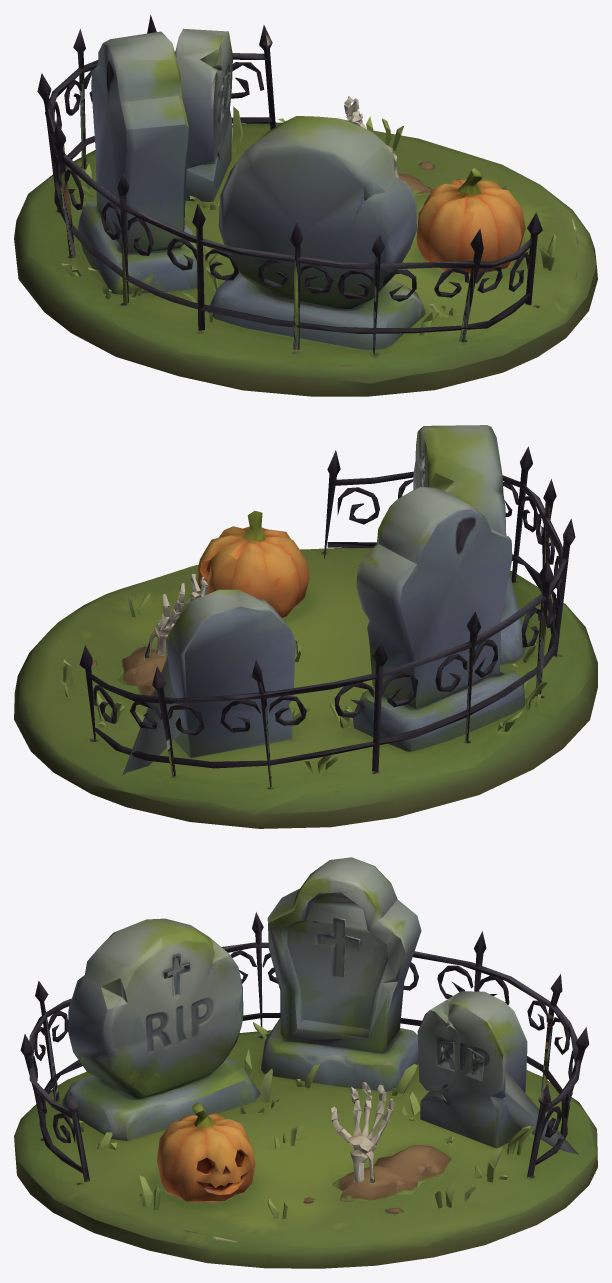
The model's file is H3_GraveyardSet_LOD2.fbx.
3 views of the same model, one above another, from view 1: azimuth 30°, elevation 25°; view 2: azimuth 150°, elevation 25°; view 3: azimuth 270°, elevation 25° (orthographic). The views are drawn at different scales.
Visible parts, largest first — view 1: H3_GraveyardSet_LOD2; view 2: H3_GraveyardSet_LOD2; view 3: H3_GraveyardSet_LOD2.
Boxes of the visible parts, x1,y1,x2,y2 form: H3_GraveyardSet_LOD2: (14,15,597,396); H3_GraveyardSet_LOD2: (14,425,597,828); H3_GraveyardSet_LOD2: (14,857,597,1268).
Size of the model in its own units: 2.27 by 1.1 by 2.55.
Materials: 1 (1 with a texture image).
